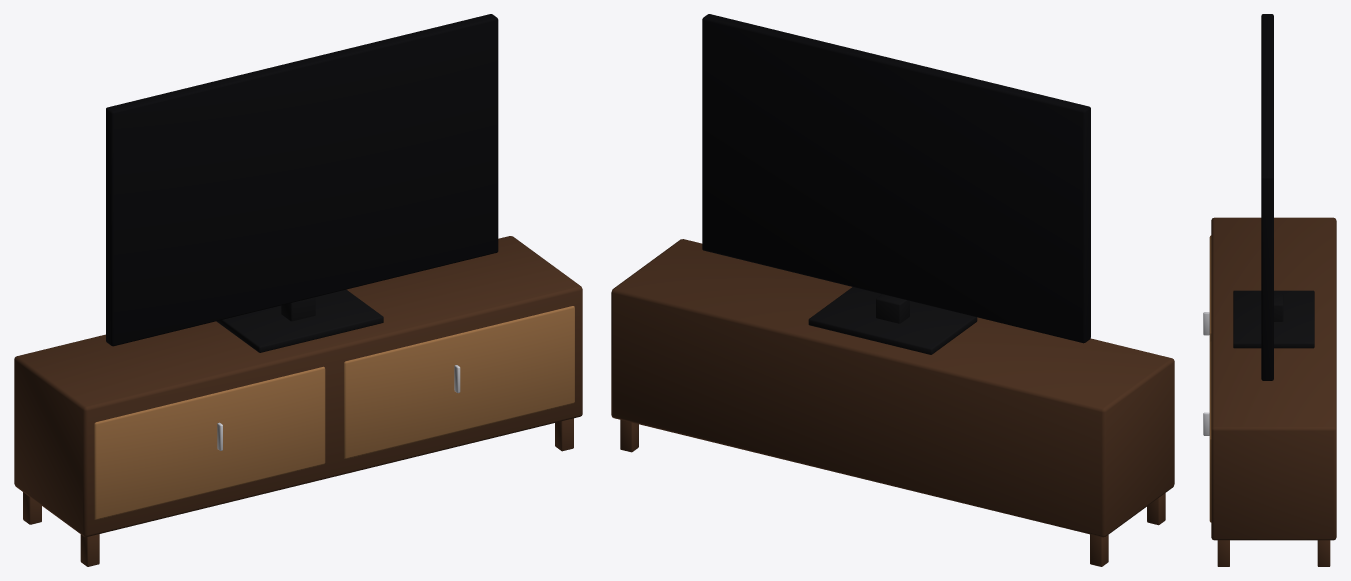
File: TV_Stand_With_TV.glb
3 views of the same model, side by side, from view 1: azimuth 30°, elevation 25°; view 2: azimuth 150°, elevation 25°; view 3: azimuth 270°, elevation 25° (orthographic). The views are drawn at different scales.
Parts seen in each view (by area): view 1: TV_Stand_With_TV; view 2: TV_Stand_With_TV; view 3: TV_Stand_With_TV.
Part boxes in pixels (x1=…): TV_Stand_With_TV: x1=14, y1=14, x2=582, y2=566; TV_Stand_With_TV: x1=611, y1=14, x2=1174, y2=566; TV_Stand_With_TV: x1=1203, y1=14, x2=1336, y2=566.
Bounding box in the file's own units: 1.6 × 1.3 × 0.425.
